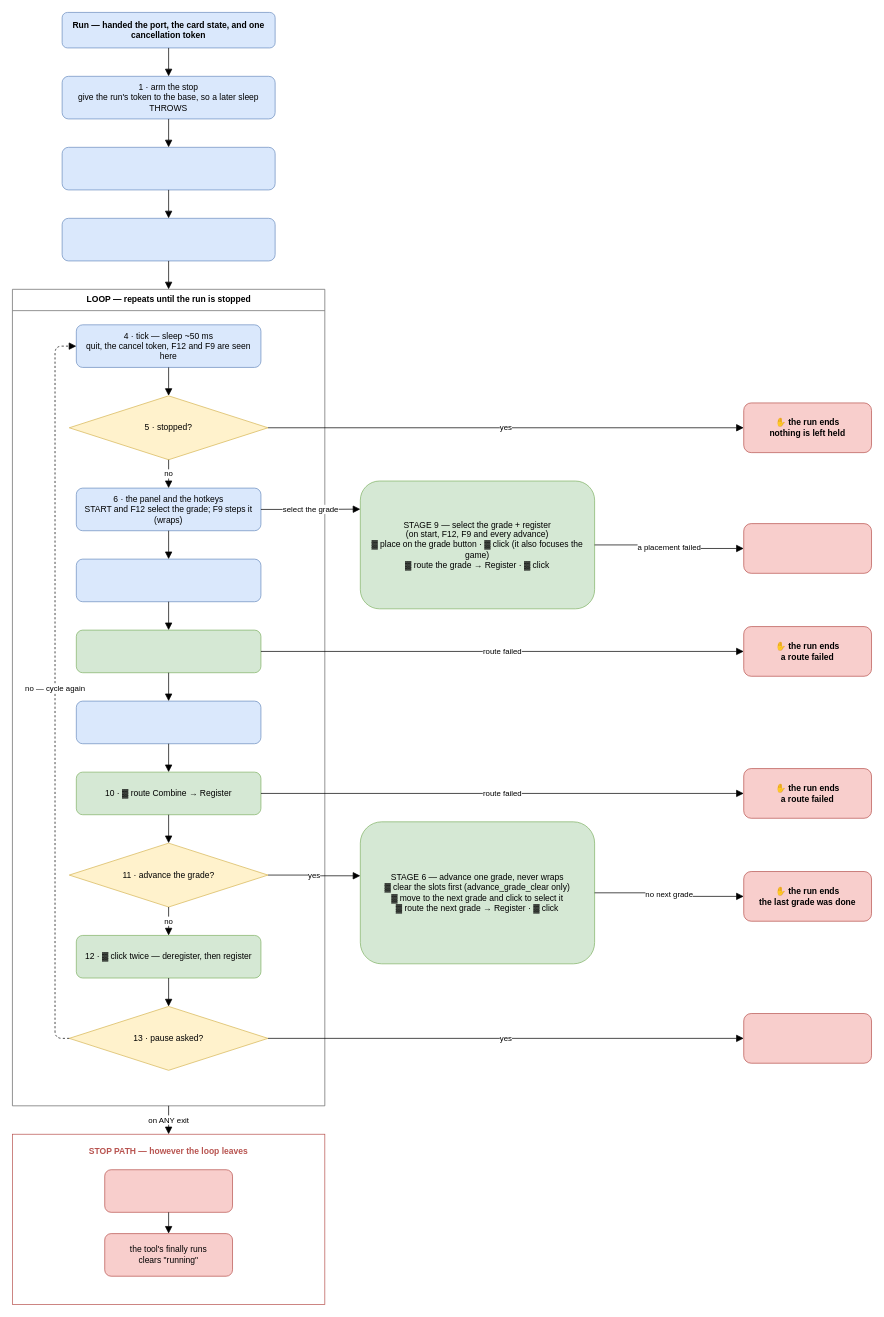
Image size: 884x1317. Some labels were removed from this diagram. The shapes that lost their labels are listed below. From the top down, each one's centre as x and y in pixels, then its label:
At (x=168, y=168): "2 · read the grades the list starts at gem.start_grade".
At (x=168, y=239): "3 · seed the state running=false · cycle=0 · emptyCount=0".
At (x=807, y=548): "✋ the run ends a placement failed".
At (x=168, y=580): "7 · the idle — not running, nothing is sent".
At (x=168, y=651): "8 · ▓ route Register → Combine, then click to combine".
At (x=168, y=722): "9 · the empty check judges the composed box; arms the advance".
At (x=807, y=1038): "✋ the run ends a pause was asked".
At (x=168, y=1190): "a Stop cancels the token ─► the loop's next sleep THROWS".
